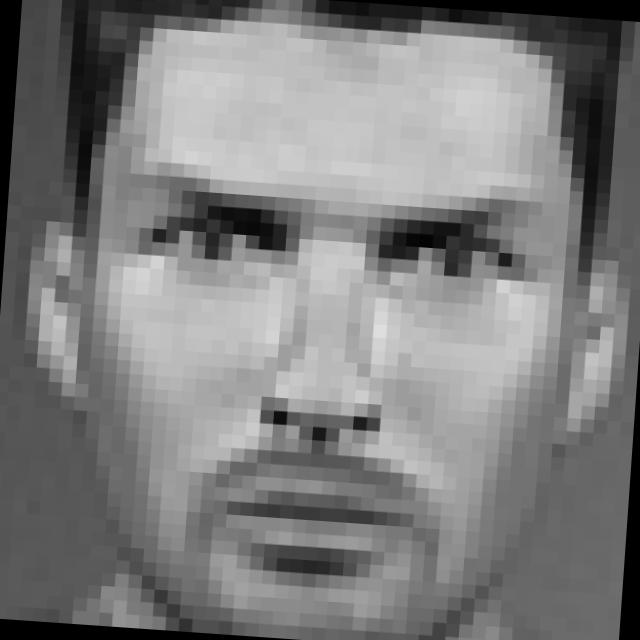neutral: (109, 157, 564, 602)
